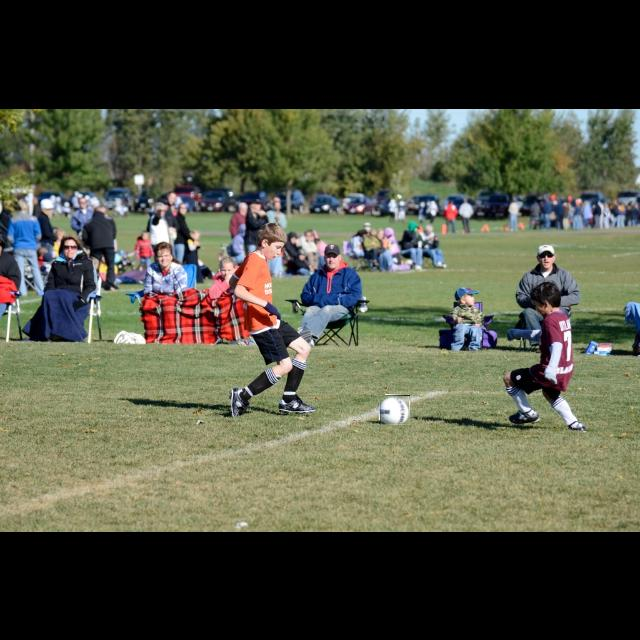Football: (380, 395, 410, 425)
